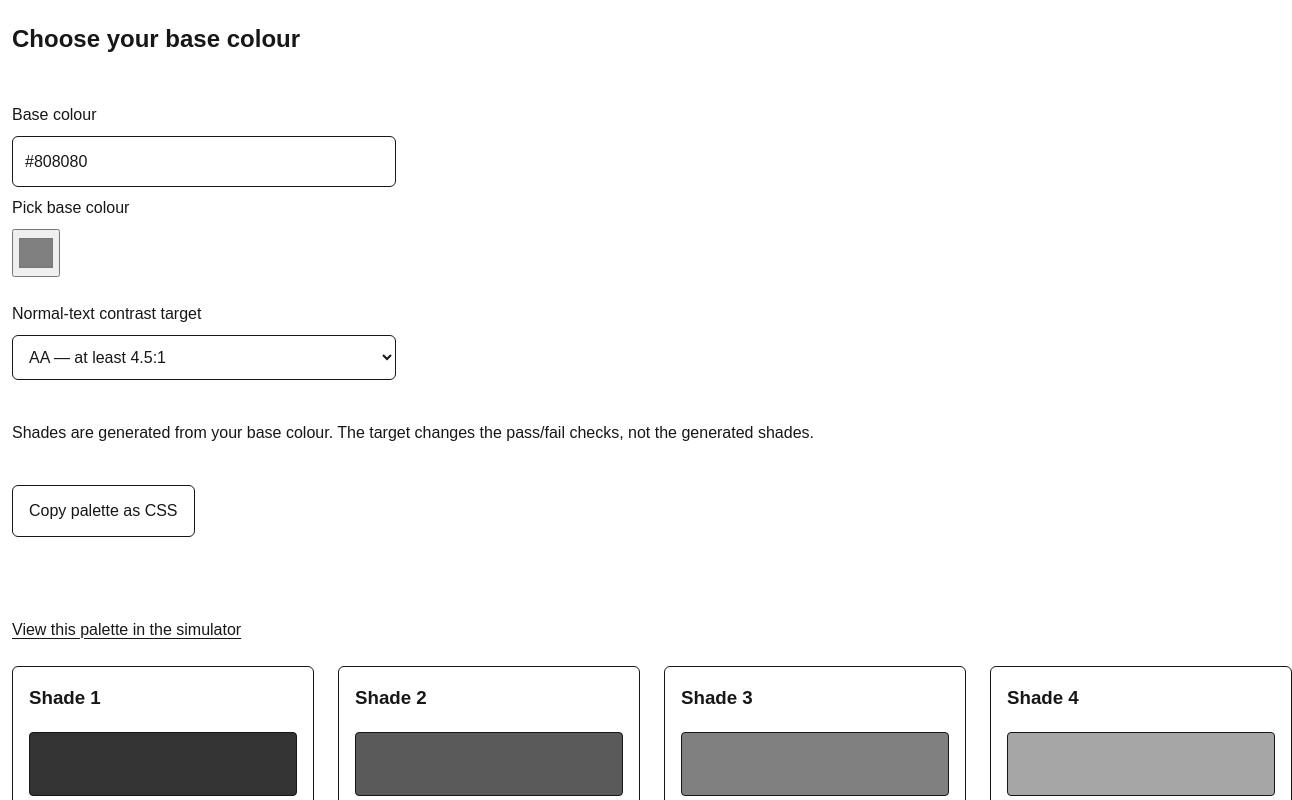
Test case: shows a manual-copy fallback when clipboard access fails
Click the button "Copy palette as CSS" at point(103, 511), box left=12, top=485, right=194, bottom=537
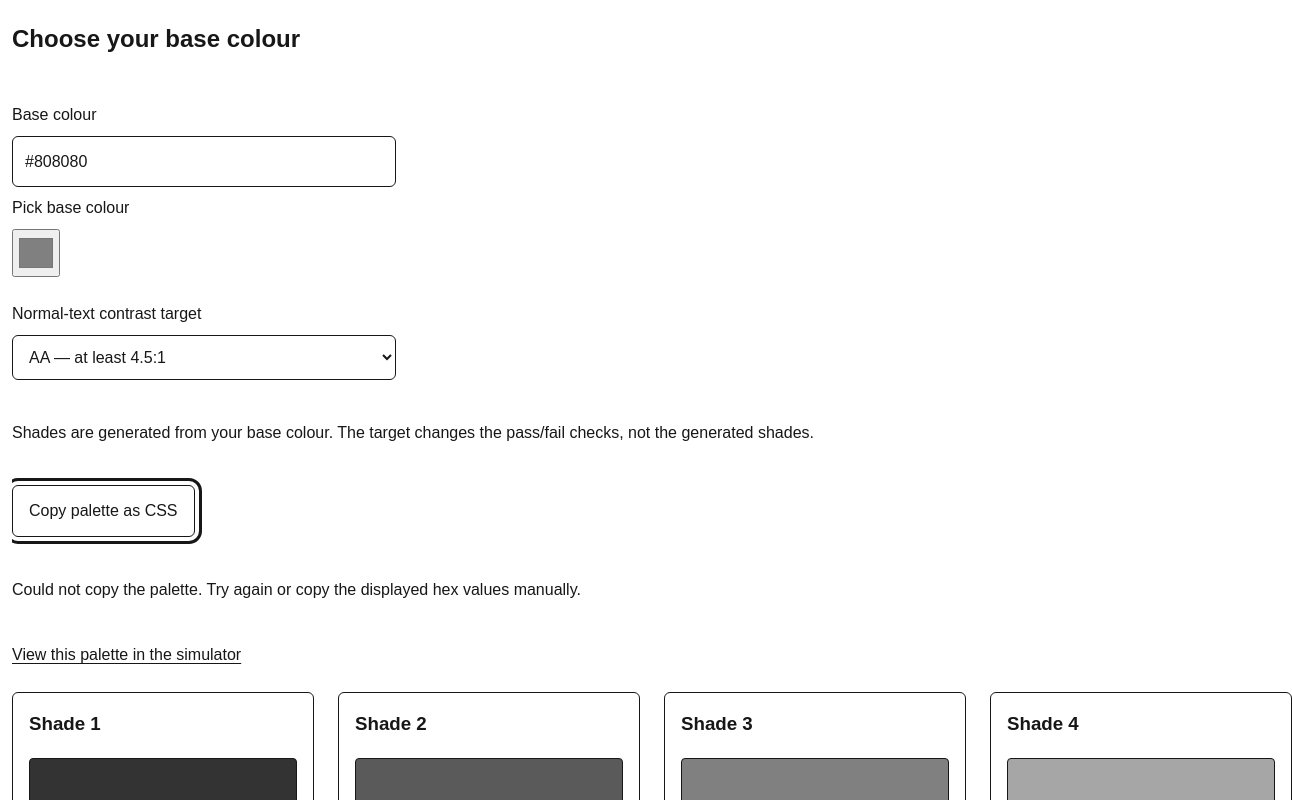
Expected: the message shows "Could not copy the palette", left=12, top=581, right=581, bottom=598
